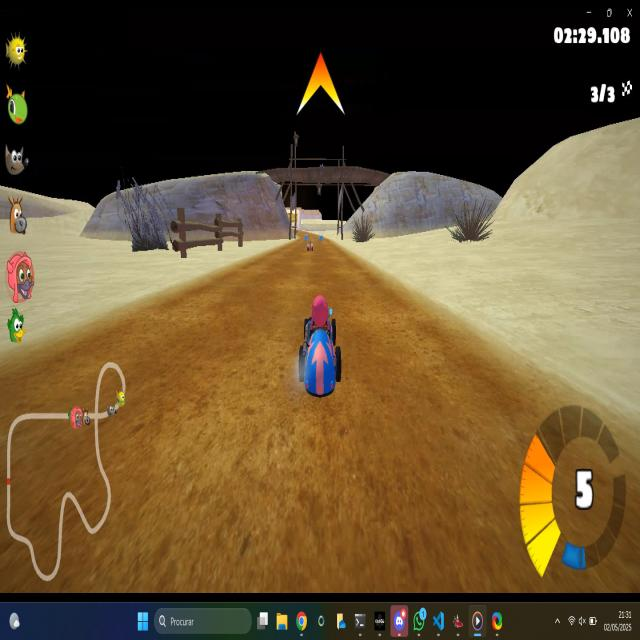bonus: (316, 230, 324, 243)
enemy_kart: (305, 245, 314, 255)
player_kart: (296, 300, 342, 394)
track: (289, 400, 640, 591), (1, 372, 294, 596), (343, 308, 459, 404), (132, 306, 295, 374), (462, 336, 533, 400), (268, 253, 372, 295), (90, 325, 142, 373), (213, 270, 271, 311), (348, 291, 422, 302), (181, 282, 211, 307), (373, 271, 403, 290), (248, 252, 271, 268), (285, 240, 301, 252), (298, 226, 306, 232)
